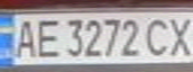2: (118, 16, 145, 58), (81, 16, 106, 58)
3: (60, 16, 84, 58)
7: (100, 15, 124, 58)
A: (9, 16, 39, 60)
C: (142, 16, 172, 57)
E: (33, 16, 63, 60)
X: (163, 12, 193, 57)
